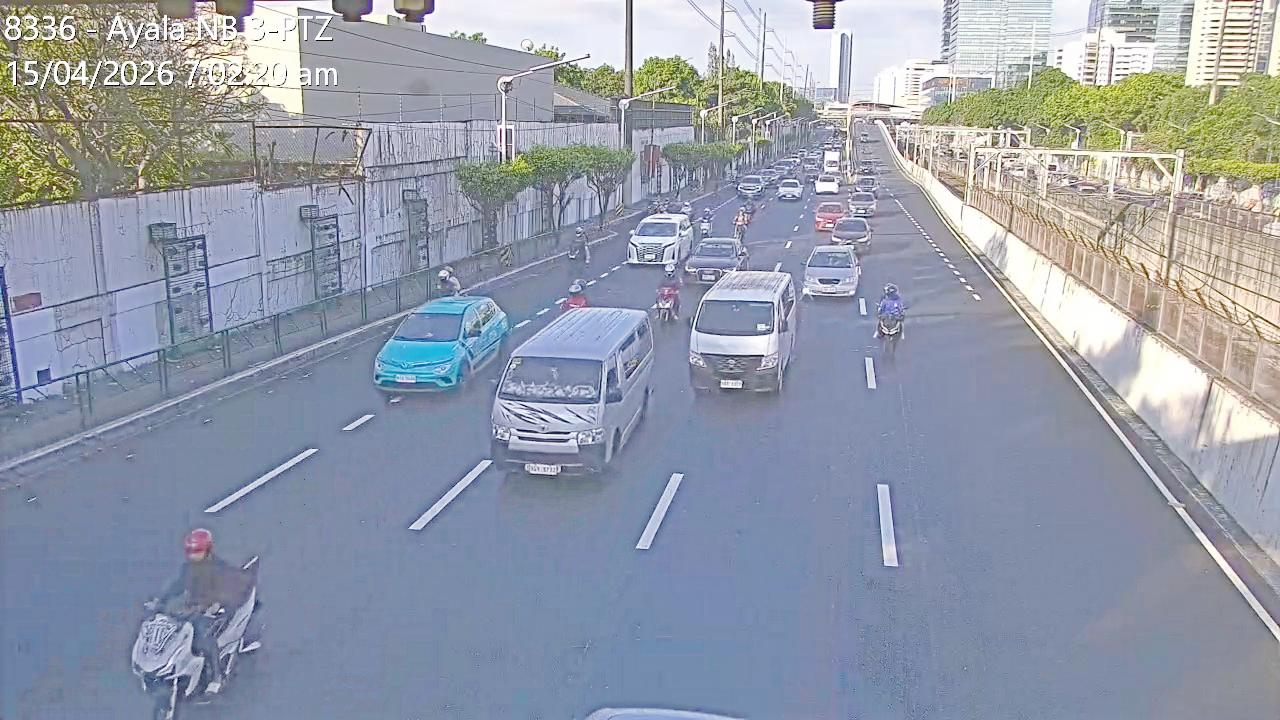Car: (490, 305, 653, 475), (687, 270, 800, 397), (371, 293, 507, 395), (625, 212, 694, 270), (801, 242, 862, 298), (682, 236, 748, 285), (829, 215, 873, 252), (812, 200, 848, 232), (846, 190, 878, 217), (776, 178, 804, 201), (736, 175, 764, 198), (813, 173, 841, 195), (855, 176, 879, 198)
Motor: (126, 518, 268, 720), (875, 287, 907, 351), (651, 279, 681, 329), (563, 234, 588, 276), (732, 211, 755, 252), (560, 284, 587, 315), (692, 216, 709, 241), (679, 200, 694, 220)
Not Accident: (690, 268, 800, 402), (806, 199, 876, 302), (690, 207, 751, 282), (738, 169, 770, 203)
